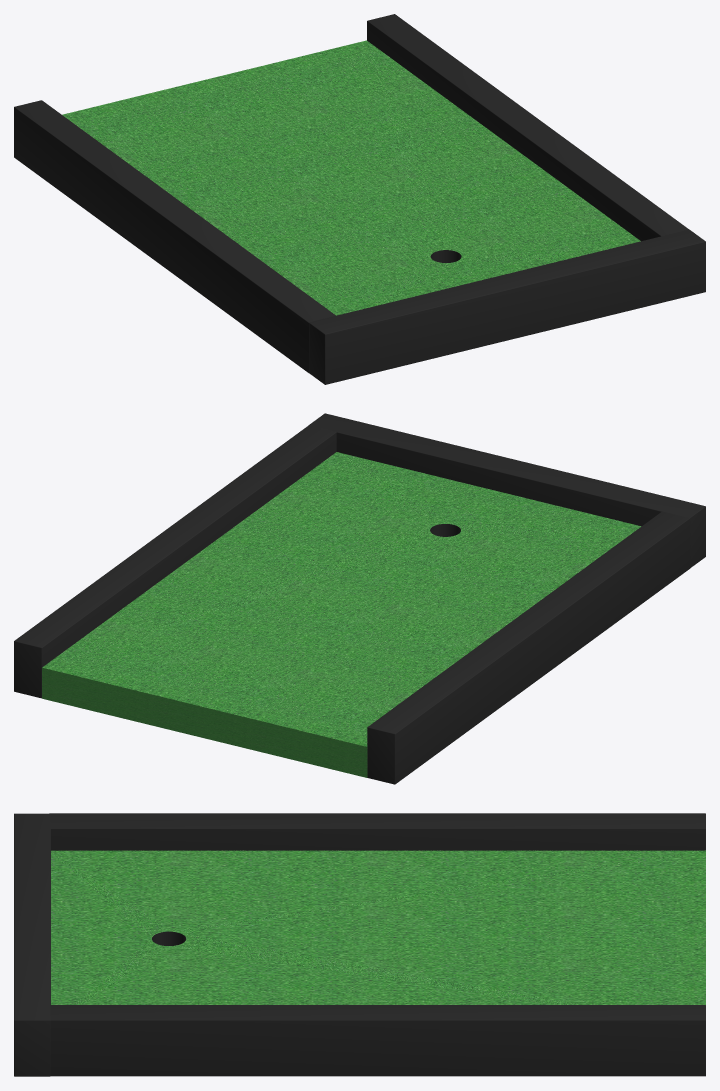
The model's file is HoleSec.fbx.
3 renders of one model, top to bottom at view 1: azimuth 30°, elevation 25°; view 2: azimuth 150°, elevation 25°; view 3: azimuth 270°, elevation 25°, orthographic. The views are drawn at different scales.
Parts seen in each view (by area): view 1: Floor, Back, L_Wall, R_Wall; view 2: Floor, L_Wall, R_Wall, Back; view 3: Floor, R_Wall, L_Wall, Back.
Part boxes in pixels (x1,y1,x2,y2): Floor: (62, 40, 640, 315); Back: (309, 229, 705, 384); L_Wall: (14, 100, 335, 372); R_Wall: (367, 14, 688, 241); Floor: (42, 452, 641, 777); L_Wall: (367, 511, 690, 784); R_Wall: (14, 425, 336, 698); Back: (309, 413, 705, 567); Floor: (51, 850, 705, 1004); R_Wall: (50, 1005, 705, 1076); L_Wall: (49, 813, 705, 850); Back: (14, 813, 50, 1076).
Size of the model in its own units: 149 by 19.01 by 211.
Materials: 2 (1 with a texture image).
